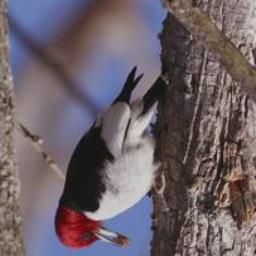Woodpecker: (53, 68, 170, 250)
